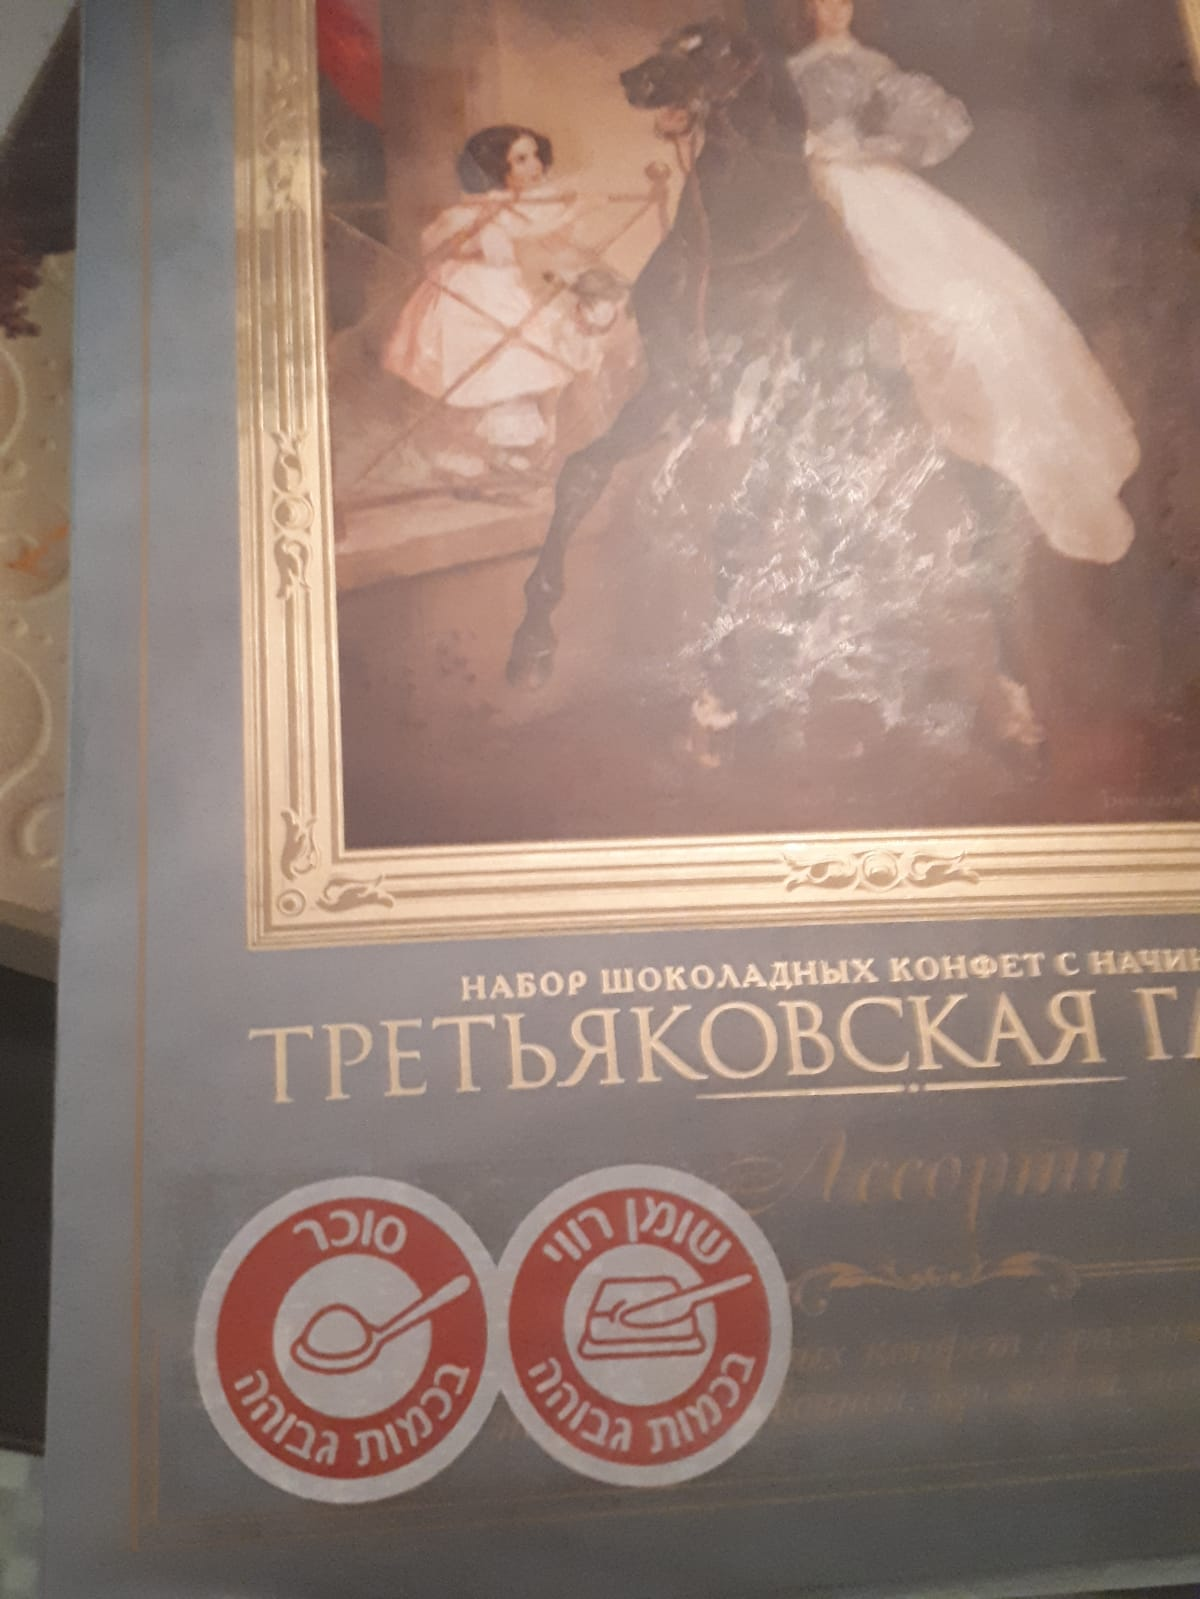fat: (499, 1164, 797, 1489)
sugar: (194, 1177, 499, 1507)
